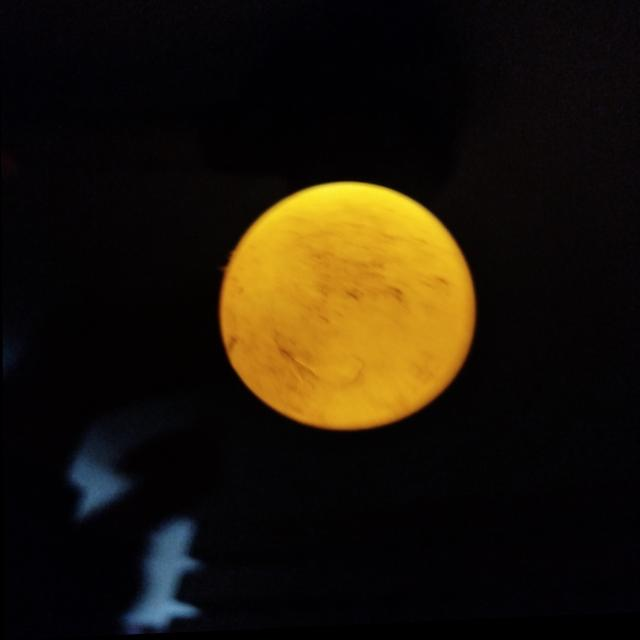Rachadura: (280, 349, 363, 391)
